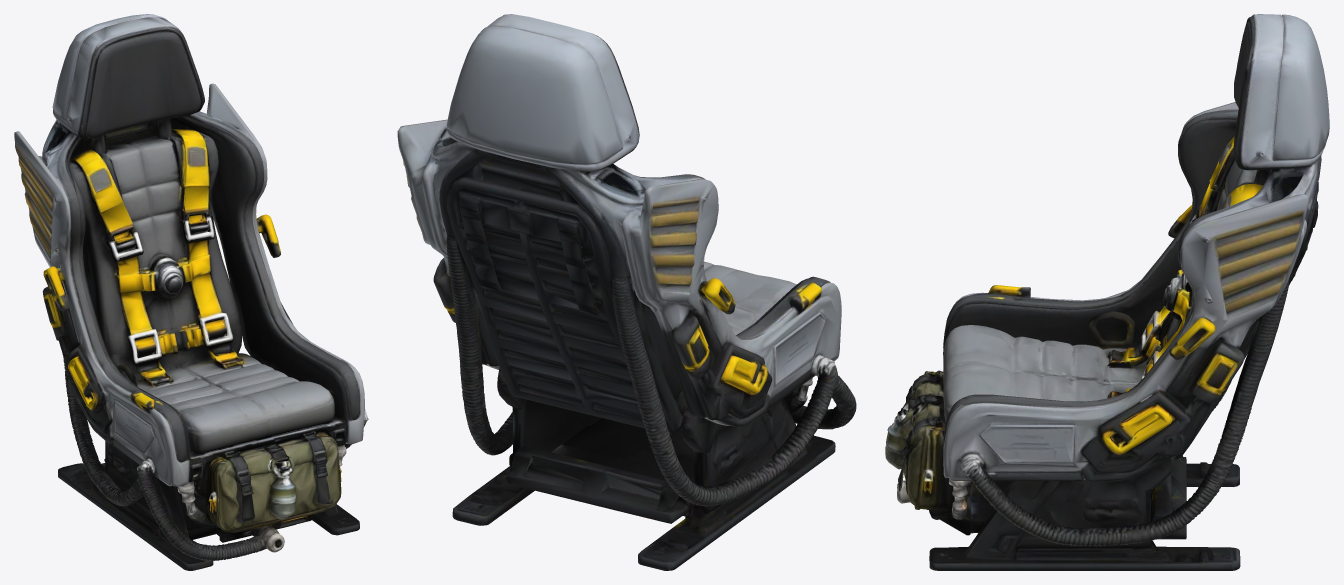
File: siege.glb
The picture shows the model from 3 angles, left to right: view 1: azimuth 30°, elevation 25°; view 2: azimuth 150°, elevation 25°; view 3: azimuth 270°, elevation 25°; orthographic projection. The views are drawn at different scales.
Visible parts, largest first — view 1: node_0; view 2: node_0; view 3: node_0.
Boxes of the visible parts, <box> form: node_0: <box>14,14,368,570</box>; node_0: <box>397,14,856,570</box>; node_0: <box>885,14,1329,570</box>.
Size of the model in its own units: 0.5305 by 0.9479 by 0.7783.
Materials: 1 (1 with a texture image).
